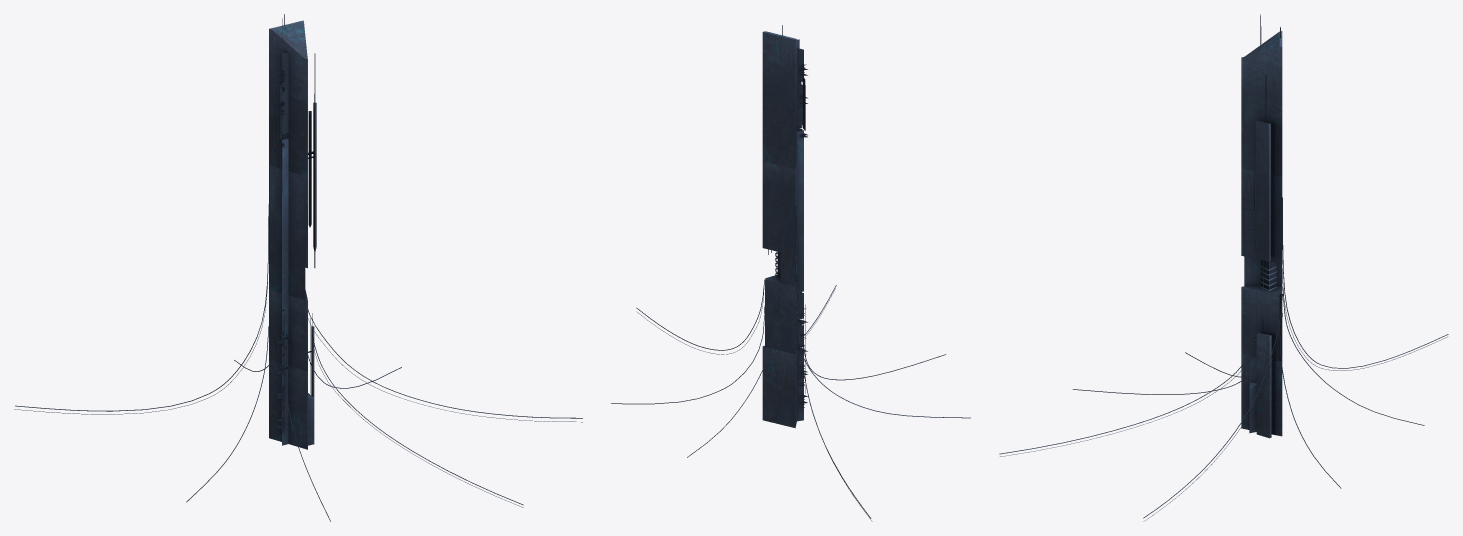
Rendered from Citadel.glb.
3 views of the same model, side by side, from view 1: azimuth 30°, elevation 25°; view 2: azimuth 150°, elevation 25°; view 3: azimuth 270°, elevation 25° (orthographic). The views are drawn at different scales.
Visible parts, largest first — view 1: Citadel_001_2; view 2: Citadel_001_2; view 3: Citadel_001_2.
Boxes of the visible parts, x1,y1,x2,y2 form: Citadel_001_2: (14, 14, 582, 521); Citadel_001_2: (611, 25, 970, 521); Citadel_001_2: (999, 14, 1448, 521).
Bounding box in the file's own units: 5.24 × 5.24 × 5.24.
1 material, 1 textured.
